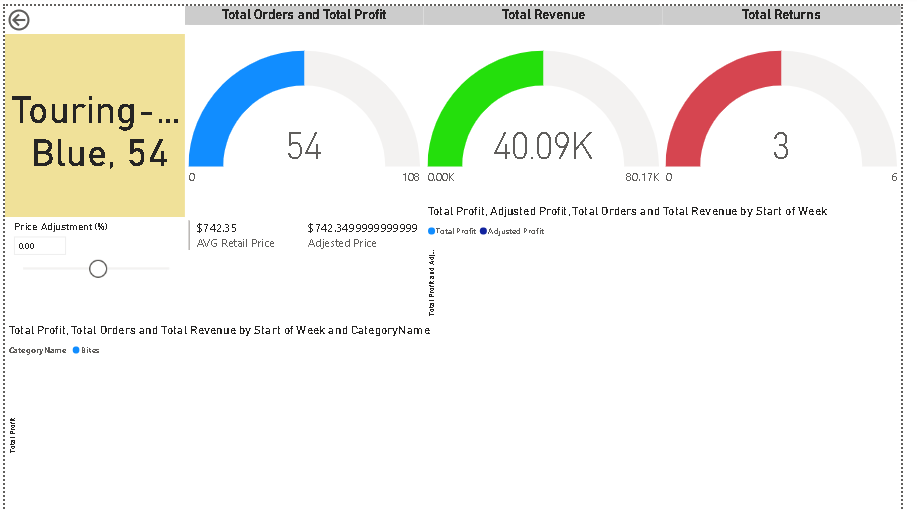

The page's visual inventory and layout, read from the dashboard file:
{"tool":"powerbi","page":{"name":"Product Detail","canvas":[1280,720],"ordinal":1},"visuals":[{"type":"stackedAreaChart","fields":{"Series":["Myproject_Product_Categories.CategoryName"],"Category":["Myproject_Calendar_Lookup.Start of Week"],"Y":["Myproject_Sales.Total Profit"]},"box":[0,453.4,1280,266],"z":0},{"type":"gauge","fields":{"Y":["Myproject_Sales.Total Orders"],"TargetValue":["Myproject_Sales.Total Profit"]},"box":[257,0,341,302.4],"z":1000},{"type":"gauge","fields":{"Y":["Myproject_Returns.Total Returns"]},"box":[939,0,341,302.4],"z":2000},{"type":"gauge","fields":{"Y":["Myproject_Sales.Total Revenue"]},"box":[598,0,341,302.4],"z":3000},{"type":"card","fields":{"Values":["Min(Myproject_Products_Lookup.ProductName)"]},"box":[0,40.3,257,262],"z":4000},{"type":"actionButton","box":[0,0,100.8,40.3],"z":5000},{"type":"slicer","fields":{"Values":["Price Adjustment (%).Price Adjustment (%)"]},"box":[0,301.8,257.4,151.6],"z":6000},{"type":"multiRowCard","fields":{"Values":["Myproject_Products_Lookup.AVG Retail Price","Myproject_Products_Lookup.Adjested Price"]},"box":[257.4,301.8,340.4,151.6],"z":7000},{"type":"stackedAreaChart","fields":{"Category":["Myproject_Calendar_Lookup.Start of Week"],"Y":["Myproject_Sales.Total Profit","Myproject_Sales.Adjusted Profit"]},"box":[599.2,283.2,680.8,170.2],"z":8000}]}

Visuals, with their boxes in screenshot pixels (x1, y1, x2, y2), scaled from the page's 1280x720 canvas onto the 917x510 screenshot:
stackedAreaChart - Myproject_Product_Categories.CategoryName x Myproject_Calendar_Lookup.Start of Week: x1=0, y1=321, x2=916, y2=509
gauge - Myproject_Sales.Total Orders x Myproject_Sales.Total Profit: x1=184, y1=0, x2=428, y2=214
gauge - Myproject_Returns.Total Returns: x1=673, y1=0, x2=916, y2=214
gauge - Myproject_Sales.Total Revenue: x1=428, y1=0, x2=673, y2=214
card - Min(Myproject_Products_Lookup.ProductName): x1=0, y1=29, x2=184, y2=214
actionButton: x1=0, y1=0, x2=72, y2=29
slicer - Price Adjustment (%).Price Adjustment (%): x1=0, y1=214, x2=184, y2=321
multiRowCard - Myproject_Products_Lookup.AVG Retail Price x Myproject_Products_Lookup.Adjested Price: x1=184, y1=214, x2=428, y2=321
stackedAreaChart - Myproject_Calendar_Lookup.Start of Week x Myproject_Sales.Total Profit: x1=429, y1=201, x2=916, y2=321
